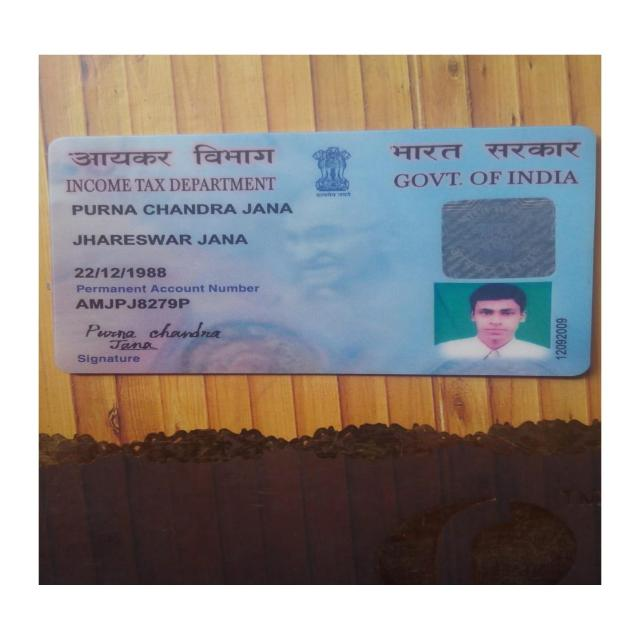pan_card: (49, 129, 590, 375)
